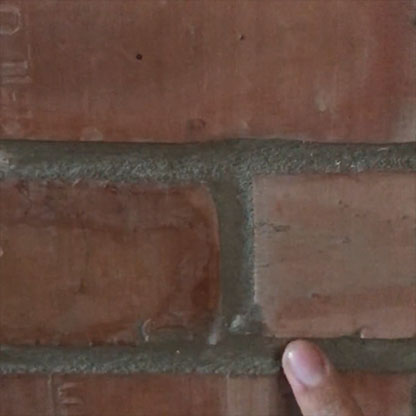fingertip: (273, 333, 348, 403)
